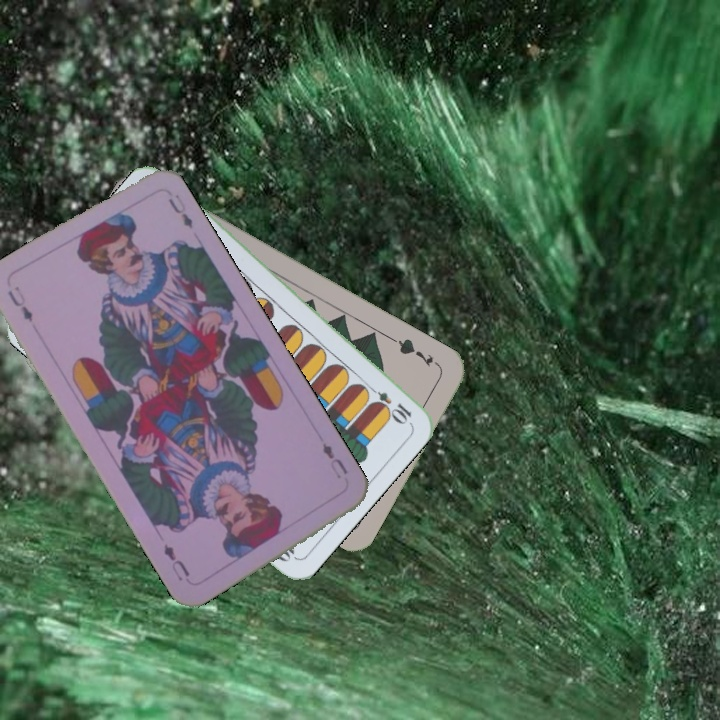E10: (362, 381, 415, 426)
EU: (318, 438, 350, 482), (4, 282, 36, 325)
G7: (389, 334, 443, 370)
